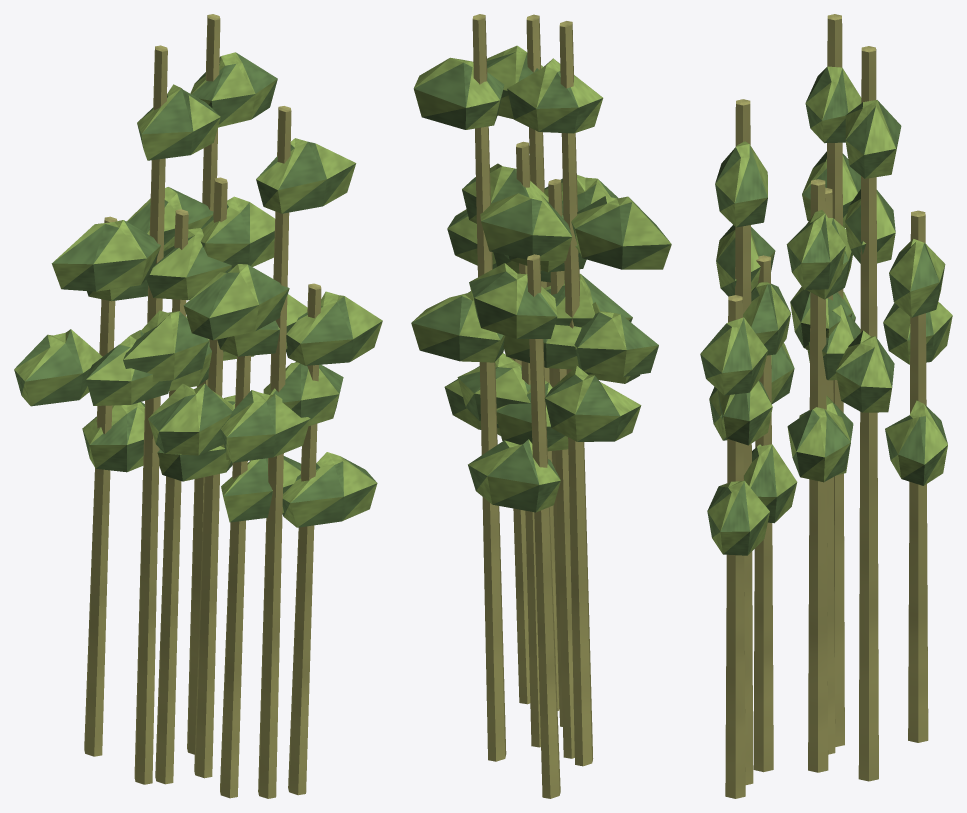
Rendered from bamboo_clump_02.fbx.
3 renders of one model, left to right at view 1: azimuth 30°, elevation 25°; view 2: azimuth 150°, elevation 25°; view 3: azimuth 270°, elevation 25°, orthographic.
Visible parts, largest first — view 1: bamboo_clump_02; view 2: bamboo_clump_02; view 3: bamboo_clump_02.
Part boxes in pixels (x1,y1,x2,y2): bamboo_clump_02: (14,14,382,798); bamboo_clump_02: (411,14,671,798); bamboo_clump_02: (700,14,952,798).
Size of the model in its own units: 227 by 580 by 180.
Materials: 1 (1 with a texture image).
